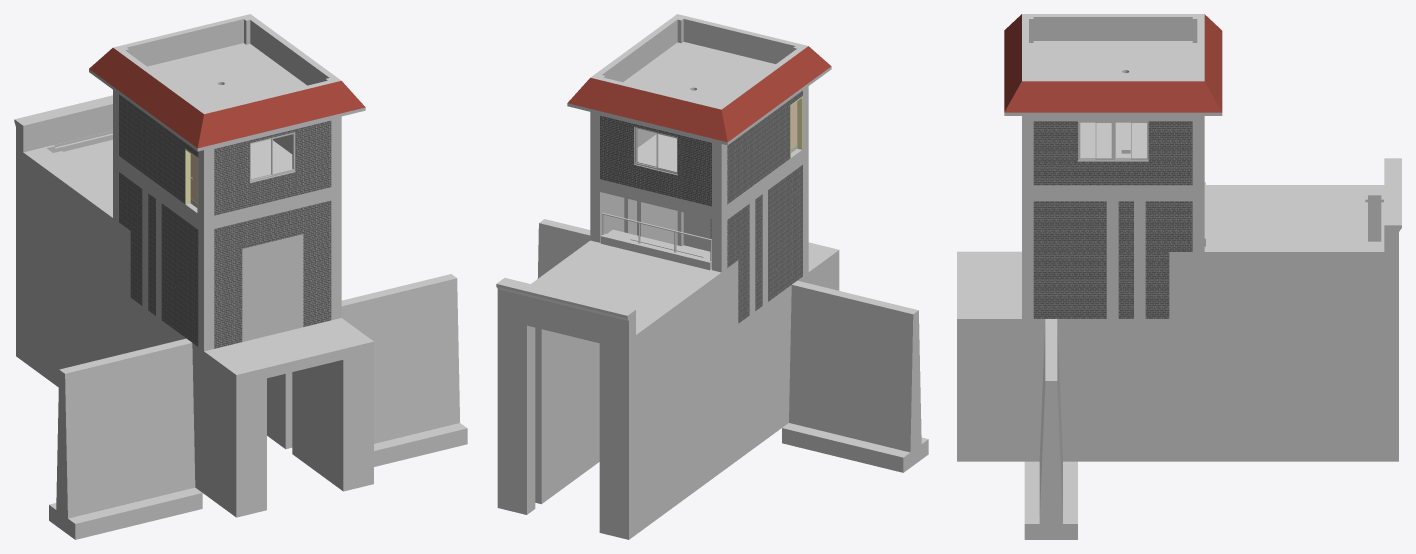
Rendered from shuizha.obj.
The picture shows the model from 3 angles, left to right: view 1: azimuth 30°, elevation 25°; view 2: azimuth 150°, elevation 25°; view 3: azimuth 270°, elevation 25°; orthographic projection. The views are drawn at different scales.
Visible parts, largest first — view 1: Mesh101 Group64 Group58 Model, Mesh103 __2 Model, Mesh100 Group63 Group59 Group58 Model, Mesh102 __1 Model, Mesh84 Group50 Group49 Group1 Model, Mesh86 Group53 Group52 Group1 Model, Mesh50 Group38 Group37 Group1 Model, Mesh87 Group52 Group1 Model, Mesh40 Group28 Group1 Model, Mesh54 Group43 Group42 Group1 Model, Mesh27 Group15 Group1 Model, Mesh92 ____1 Group60 Group59 Group58 Model (+17 smaller); view 2: Mesh101 Group64 Group58 Model, Mesh100 Group63 Group59 Group58 Model, Mesh103 __2 Model, Mesh84 Group50 Group49 Group1 Model, Mesh80 Group45 Group44 Group1 Model, Mesh40 Group28 Group1 Model, Mesh54 Group43 Group42 Group1 Model, Mesh26 Group15 Group1 Model, Mesh20 Group13 Group12 Group1 Model, Mesh102 __1 Model, Mesh41 Group28 Group1 Model, Mesh88 Group54 Group1 Model (+17 smaller); view 3: Mesh101 Group64 Group58 Model, Mesh100 Group63 Group59 Group58 Model, Mesh84 Group50 Group49 Group1 Model, Mesh37 Group27 Group1 Model, Mesh43 Group30 Group29 Group1 Model, Mesh102 __1 Model, Mesh93 ____2 Group60 Group59 Group58 Model, Mesh38 Group27 Group1 Model, Mesh27 Group15 Group1 Model, Mesh26 Group15 Group1 Model, Mesh91 Group57 Group1 Model, Mesh25 Group14 Group12 Group1 Model (+13 smaller).
Boxes of the visible parts, <box> form: Mesh101 Group64 Group58 Model: <box>16,224,373,517</box>; Mesh103 __2 Model: <box>49,338,202,539</box>; Mesh100 Group63 Group59 Group58 Model: <box>14,95,130,307</box>; Mesh102 __1 Model: <box>341,274,467,466</box>; Mesh84 Group50 Group49 Group1 Model: <box>89,48,365,148</box>; Mesh86 Group53 Group52 Group1 Model: <box>214,200,331,348</box>; Mesh50 Group38 Group37 Group1 Model: <box>214,120,331,215</box>; Mesh87 Group52 Group1 Model: <box>242,234,303,341</box>; Mesh40 Group28 Group1 Model: <box>161,203,198,346</box>; Mesh54 Group43 Group42 Group1 Model: <box>119,94,198,203</box>; Mesh27 Group15 Group1 Model: <box>147,43,287,95</box>; Mesh92 ____1 Group60 Group59 Group58 Model: <box>130,298,305,385</box>; Mesh101 Group64 Group58 Model: <box>497,260,839,539</box>; Mesh100 Group63 Group59 Group58 Model: <box>496,229,738,413</box>; Mesh103 __2 Model: <box>782,280,928,472</box>; Mesh84 Group50 Group49 Group1 Model: <box>567,46,831,142</box>; Mesh80 Group45 Group44 Group1 Model: <box>600,115,711,206</box>; Mesh40 Group28 Group1 Model: <box>768,165,802,301</box>; Mesh54 Group43 Group42 Group1 Model: <box>727,90,802,204</box>; Mesh26 Group15 Group1 Model: <box>642,42,775,91</box>; Mesh20 Group13 Group12 Group1 Model: <box>712,103,727,272</box>; Mesh102 __1 Model: <box>537,219,590,278</box>; Mesh41 Group28 Group1 Model: <box>727,204,749,323</box>; Mesh88 Group54 Group1 Model: <box>683,26,791,63</box>; Mesh101 Group64 Group58 Model: <box>957,329,1398,461</box>; Mesh100 Group63 Group59 Group58 Model: <box>1169,158,1401,329</box>; Mesh84 Group50 Group49 Group1 Model: <box>1004,14,1222,112</box>; Mesh37 Group27 Group1 Model: <box>1033,201,1106,318</box>; Mesh43 Group30 Group29 Group1 Model: <box>1033,121,1192,185</box>; Mesh102 __1 Model: <box>1024,319,1077,539</box>; Mesh93 ____2 Group60 Group59 Group58 Model: <box>957,285,1169,329</box>; Mesh38 Group27 Group1 Model: <box>1145,201,1192,318</box>; Mesh27 Group15 Group1 Model: <box>1116,41,1197,78</box>; Mesh26 Group15 Group1 Model: <box>1029,41,1108,78</box>; Mesh91 Group57 Group1 Model: <box>1033,25,1192,40</box>; Mesh25 Group14 Group12 Group1 Model: <box>1022,76,1033,318</box>.
Size of the model in its own units: 15.4 by 14.85 by 15.1.
